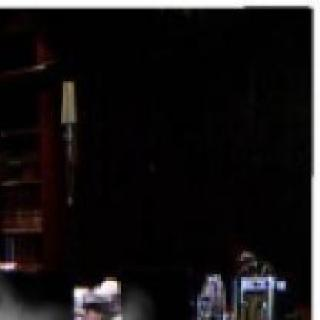smoke: (0, 263, 156, 320)
